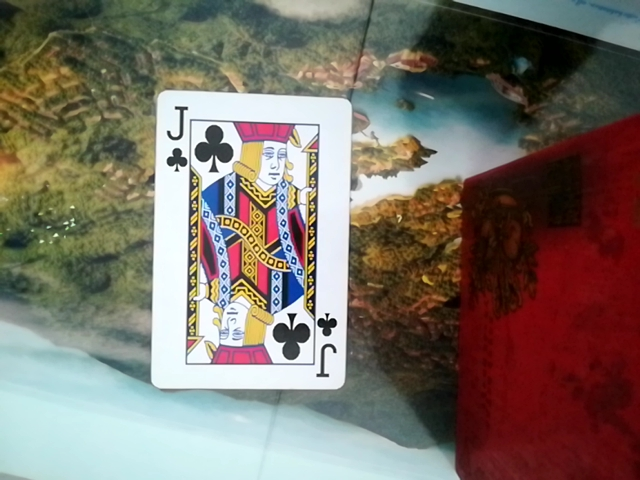mh j: (151, 84, 347, 393)
